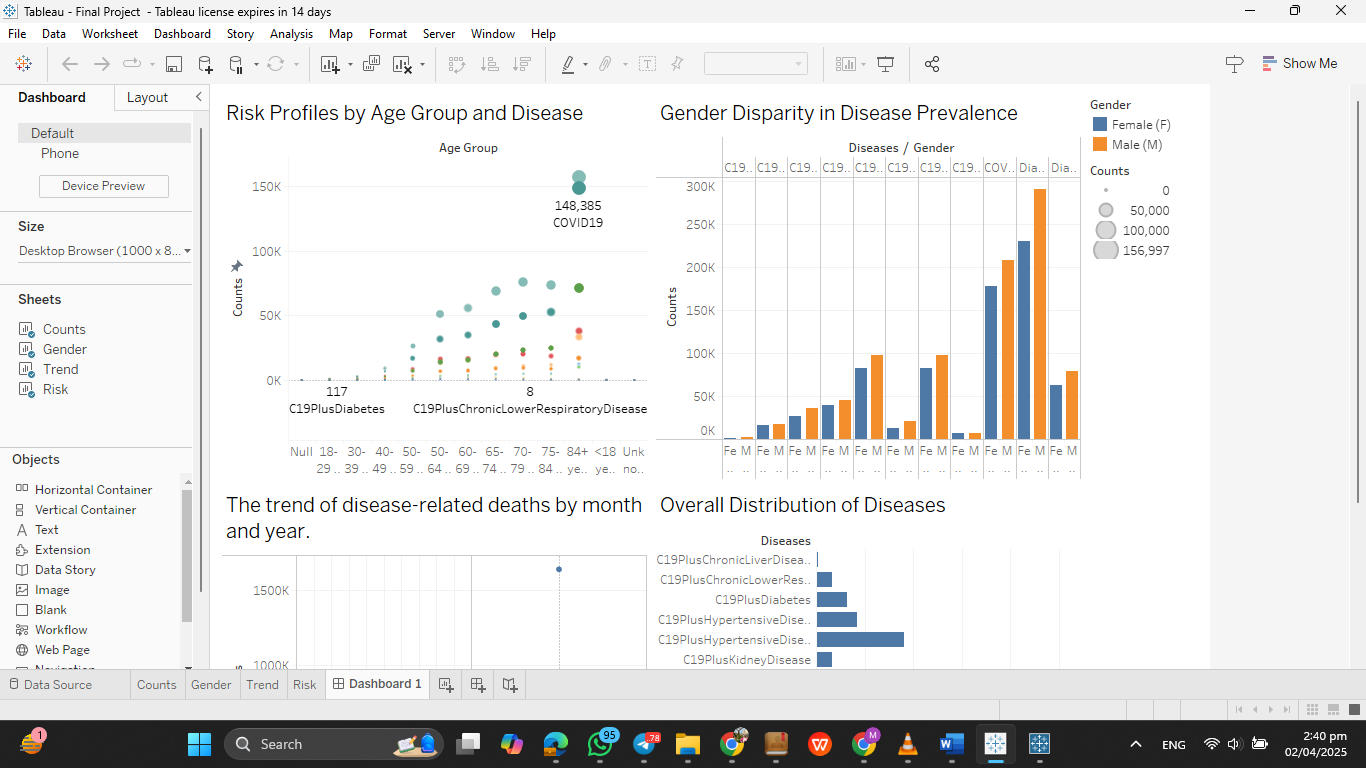

The dashboard page shown, as its layout file describes it:
{"tool":"tableau","page":{"name":"Dashboard 1","canvas":[1000,800],"ordinal":0},"visuals":[{"type":"worksheet","title":"Risk","mark":"Circle","rows":["Counts"],"cols":["AgeGroup"],"box":[8,8,434,392]},{"type":"worksheet","title":"Gender","mark":"Automatic","rows":["Counts"],"cols":["Diseases","Sex"],"box":[442,8,434,392]},{"type":"legend","title":"Gender","param":"[federated.100qz9w0pltkx61a0ouxy17b7cu2].[none:Sex:nk]","box":[876,8,116,66]},{"type":"legend","title":"Risk","param":"[federated.100qz9w0pltkx61a0ouxy17b7cu2].[sum:Counts:qk]","box":[876,74,116,212]},{"type":"worksheet","title":"Trend","mark":"Automatic","rows":["Counts"],"cols":["Date_Of_Death_Month","Date_Of_Death_Year"],"box":[8,400,434,392]},{"type":"worksheet","title":"Counts","mark":"Automatic","rows":["Diseases"],"cols":["Counts"],"box":[442,400,434,392]}]}

Visuals, with their boxes on the page's 1000x800 design canvas (x1, y1, x2, y2). These are canvas units, not pixel positions in the 1366x768 screenshot, which may show the page scaled, cropped or inside an application window:
"Risk" worksheet (Circle marks): Rect(8, 8, 442, 400)
"Gender" worksheet: Rect(442, 8, 876, 400)
"Gender" legend: Rect(876, 8, 992, 74)
"Risk" legend: Rect(876, 74, 992, 286)
"Trend" worksheet: Rect(8, 400, 442, 792)
"Counts" worksheet: Rect(442, 400, 876, 792)
